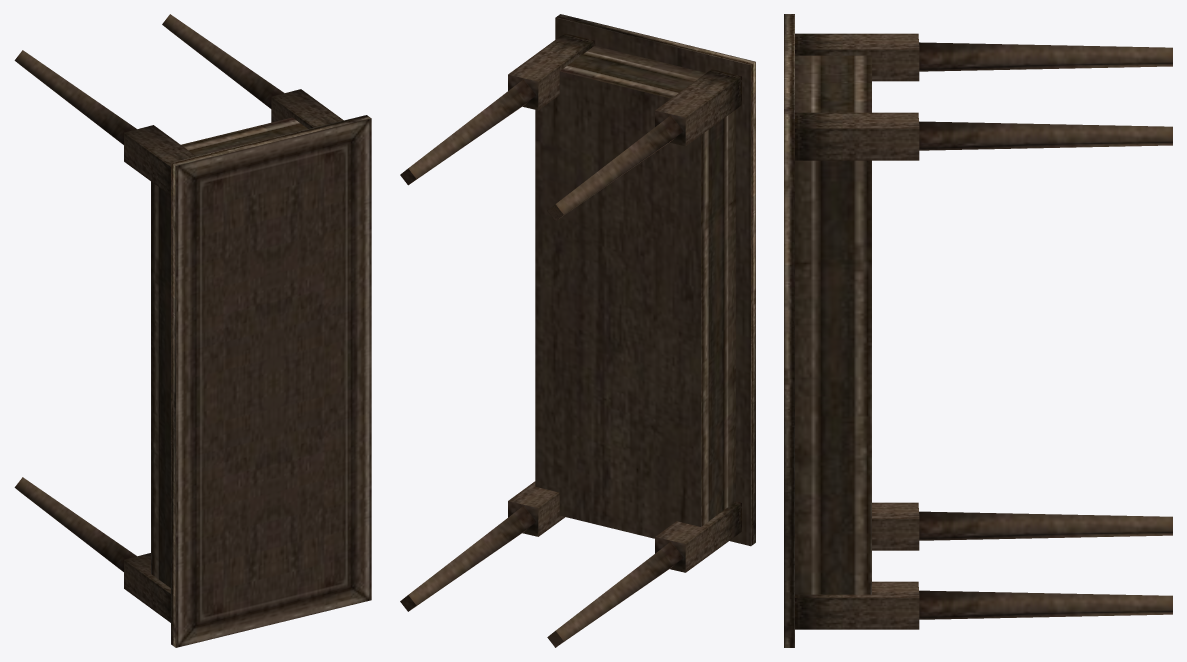
Rendered from furniture_walltable2.glb.
3 views of the same model, side by side, from view 1: azimuth 30°, elevation 25°; view 2: azimuth 150°, elevation 25°; view 3: azimuth 270°, elevation 25° (orthographic). The views are drawn at different scales.
Bounding box in the file's own units: 23 × 54.04 × 36.
1 material, 1 textured.
